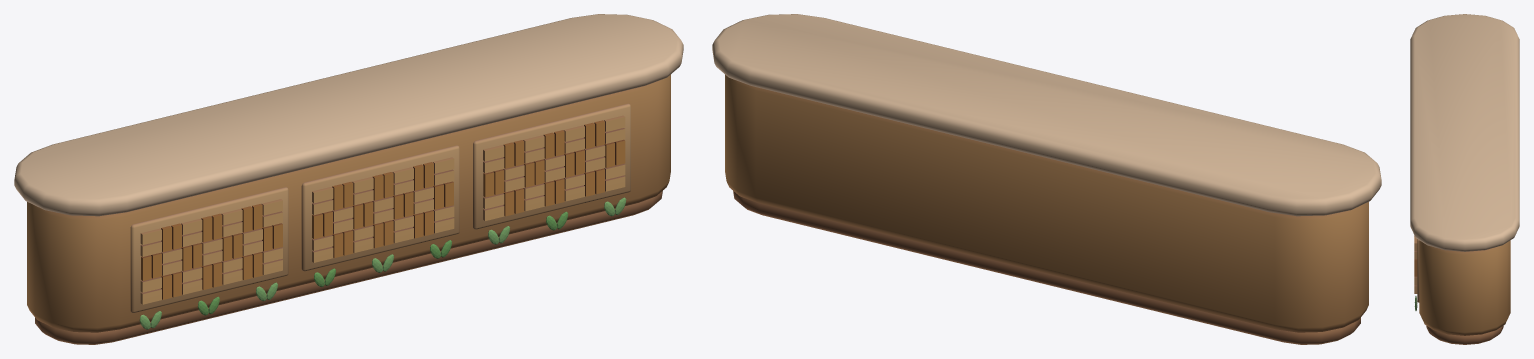
File: counter_garden.glb
3 views of the same model, side by side, from view 1: azimuth 30°, elevation 25°; view 2: azimuth 150°, elevation 25°; view 3: azimuth 270°, elevation 25° (orthographic). The views are drawn at different scales.
Parts seen in each view (by area): view 1: counter_garden; view 2: counter_garden; view 3: counter_garden.
Part boxes in pixels (box(x1,y1,x2,y2)): counter_garden: box(14, 14, 683, 344); counter_garden: box(712, 14, 1381, 344); counter_garden: box(1410, 14, 1519, 344).
Bounding box in the file's own units: 4.76 × 1.08 × 0.9599.
